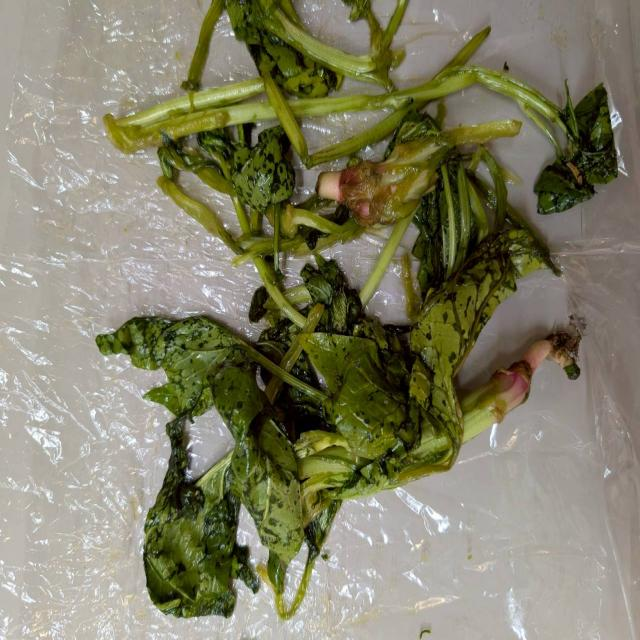rotten spinach: (270, 0, 632, 543), (81, 0, 608, 307), (107, 290, 585, 618), (115, 15, 366, 639)
